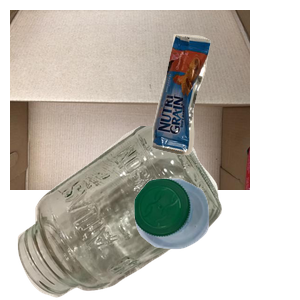cardboard: (10, 10, 250, 190)
glass: (15, 126, 229, 300)
plastic: (132, 176, 300, 300)
trash: (149, 31, 300, 179)
